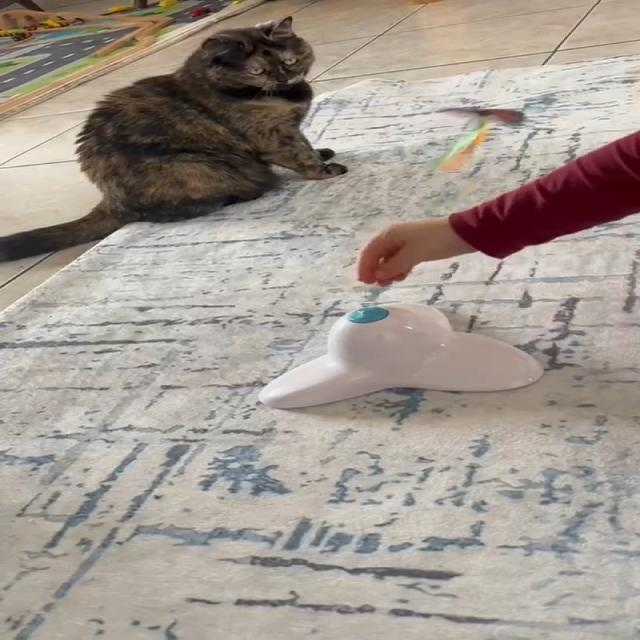authorized: (0, 15, 348, 264)
